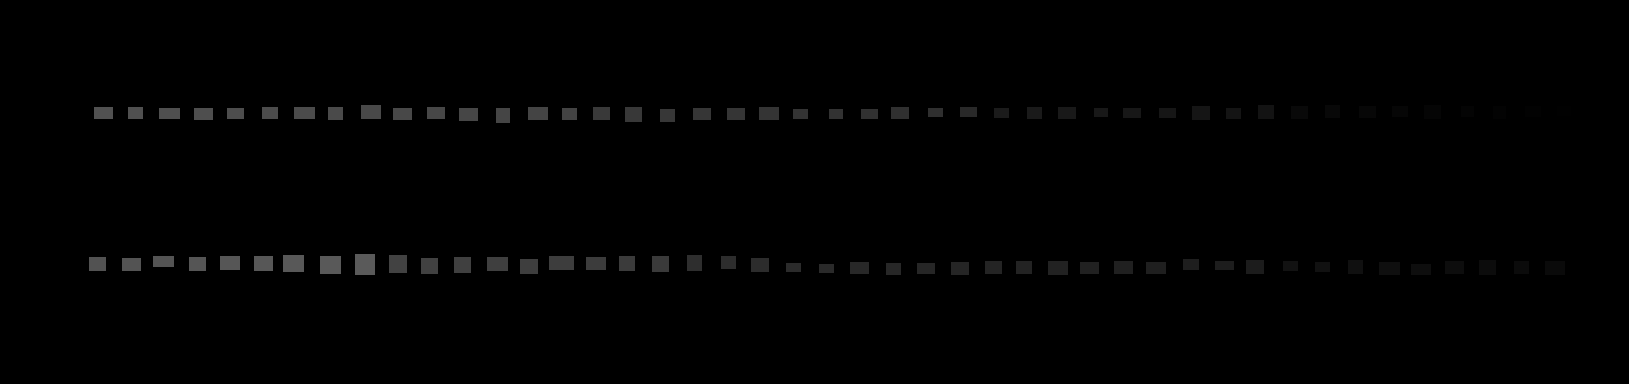light: (355, 254, 375, 275), (320, 256, 341, 274), (283, 255, 304, 272), (549, 256, 575, 270), (389, 255, 407, 273), (360, 105, 381, 119), (1379, 262, 1400, 275), (1545, 260, 1565, 275), (1048, 260, 1068, 275), (253, 256, 273, 271), (487, 257, 508, 271), (421, 258, 438, 274), (1192, 106, 1210, 120), (1114, 260, 1133, 274), (759, 107, 779, 120), (528, 107, 548, 120), (220, 256, 240, 270), (625, 107, 642, 122), (652, 256, 669, 272), (454, 257, 471, 273), (294, 107, 315, 119), (520, 259, 538, 274), (1445, 260, 1464, 274), (1246, 260, 1264, 274), (951, 262, 969, 275), (459, 108, 478, 121), (1146, 262, 1166, 274), (586, 257, 606, 270), (393, 108, 412, 120), (94, 107, 113, 119), (122, 258, 141, 271), (687, 255, 702, 271), (1424, 105, 1441, 119), (1479, 260, 1496, 275), (751, 258, 769, 272), (159, 108, 180, 119), (1058, 107, 1076, 119), (1080, 262, 1099, 274), (850, 262, 869, 274), (194, 108, 213, 120), (1258, 105, 1274, 119), (619, 256, 635, 271), (496, 108, 510, 124), (1411, 264, 1431, 275), (1291, 106, 1308, 119), (985, 260, 1002, 274), (593, 107, 610, 120), (89, 257, 106, 271), (189, 257, 206, 271), (891, 107, 909, 119), (727, 108, 745, 120), (693, 108, 711, 120), (427, 107, 445, 119), (153, 256, 173, 267), (1325, 105, 1340, 118), (1514, 260, 1529, 274), (1016, 260, 1032, 274), (660, 109, 675, 122), (1359, 106, 1376, 118), (262, 107, 278, 119), (917, 263, 935, 274), (226, 108, 244, 119), (1348, 260, 1363, 274), (328, 107, 343, 120), (128, 107, 143, 119), (1123, 108, 1141, 118), (1493, 106, 1506, 119), (1027, 107, 1042, 119), (886, 263, 901, 275), (721, 256, 736, 269), (562, 108, 577, 120), (1525, 106, 1541, 117), (1392, 106, 1408, 117), (1226, 108, 1241, 119), (1216, 260, 1234, 270), (1159, 108, 1176, 118), (960, 107, 977, 117), (861, 109, 878, 119), (1183, 259, 1199, 270), (793, 109, 808, 119), (1461, 106, 1474, 117), (1315, 262, 1330, 272), (1283, 260, 1298, 271), (994, 108, 1009, 118), (819, 264, 834, 273), (928, 108, 943, 117), (1557, 106, 1571, 116), (829, 109, 843, 119), (1094, 108, 1109, 117), (786, 263, 801, 272)
